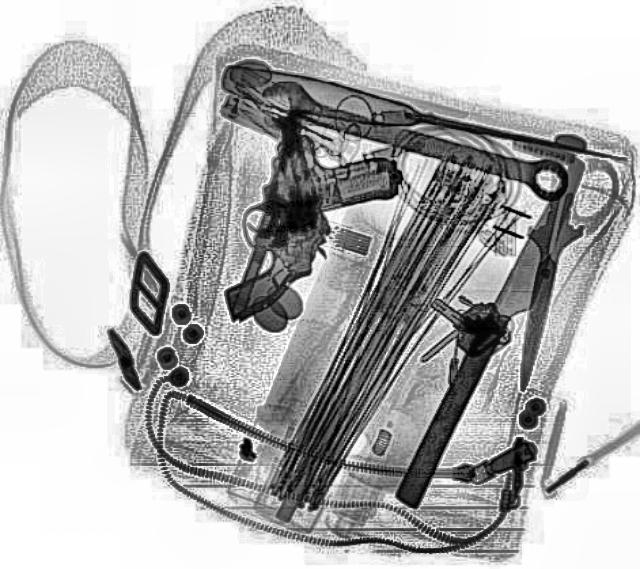Gun: (210, 123, 414, 345), (173, 99, 347, 321)
Knife: (388, 161, 598, 508), (207, 50, 637, 184)
Scissors: (467, 143, 625, 397)
Wrench: (250, 74, 578, 202)
